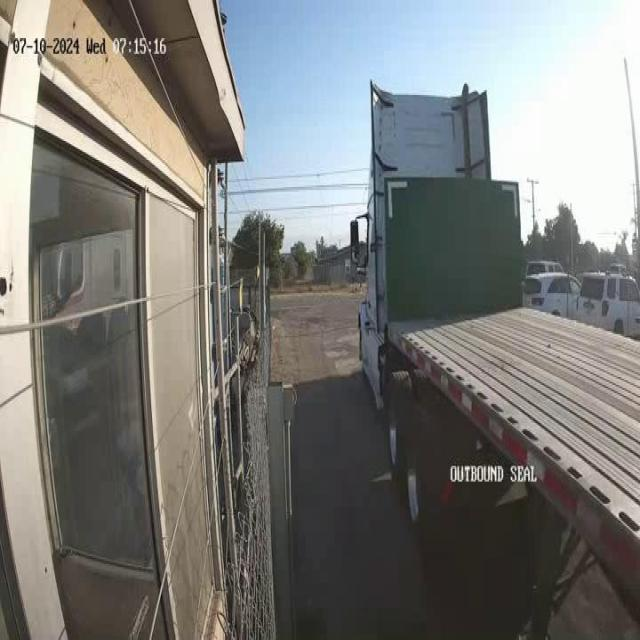TRUCK_OUT: (355, 77, 639, 634)
